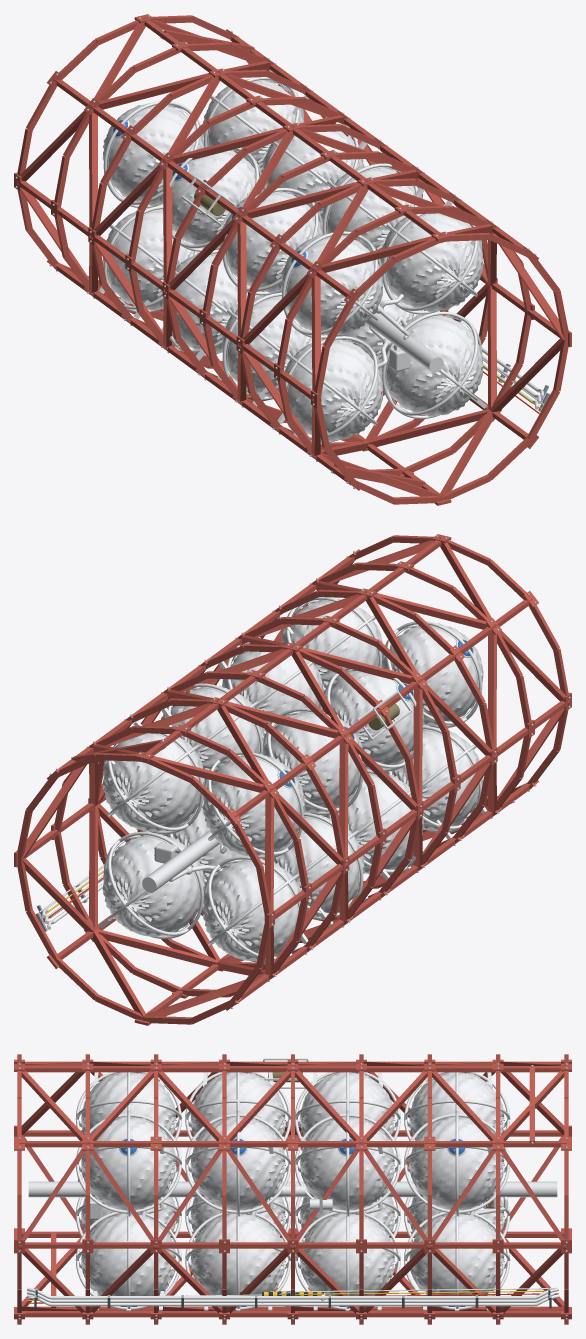
Rendered from tank-12-rcs.glb.
3 views of the same model, one above another, from view 1: azimuth 30°, elevation 25°; view 2: azimuth 150°, elevation 25°; view 3: azimuth 270°, elevation 25° (orthographic). The views are drawn at different scales.
Parts seen in each view (by area): view 1: rcs_red_box_truss, rcs_sphere_3_3, rcs_sphere_3_0, rcs_sphere_3_2, rcs_sphere_3_1, rcs_sphere_0_1, rcs_sphere_1_1, rcs_sphere_2_1, rcs_sphere_0_2, rcs_sphere_0_0, rcs_sphere_1_2, rcs_sphere_2_2 (+8 smaller); view 2: rcs_red_box_truss, rcs_sphere_0_3, rcs_sphere_0_2, rcs_sphere_0_0, rcs_sphere_0_1, rcs_sphere_3_1, rcs_sphere_2_1, rcs_sphere_1_1, rcs_sphere_3_2, rcs_sphere_3_0, rcs_sphere_2_2, rcs_sphere_1_2 (+7 smaller); view 3: rcs_red_box_truss, rcs_white_external_pipe_bundle, rcs_sphere_3_0, rcs_sphere_0_0, rcs_sphere_2_3, rcs_sphere_2_0, rcs_sphere_1_3, rcs_sphere_1_0, rcs_sphere_3_3, rcs_sphere_0_3, rcs_sphere_2_1, rcs_sphere_1_1 (+33 smaller).
Boxes of the visible parts, <box> form: rcs_red_box_truss: <box>14,14,571,505</box>; rcs_sphere_3_3: <box>381,314,483,416</box>; rcs_sphere_3_0: <box>381,213,483,312</box>; rcs_sphere_3_2: <box>285,339,382,441</box>; rcs_sphere_3_1: <box>281,233,382,335</box>; rcs_sphere_0_1: <box>102,103,204,205</box>; rcs_sphere_1_1: <box>162,148,263,249</box>; rcs_sphere_2_1: <box>221,191,323,292</box>; rcs_sphere_0_2: <box>103,208,203,310</box>; rcs_sphere_0_0: <box>203,79,304,173</box>; rcs_sphere_1_2: <box>162,253,263,353</box>; rcs_sphere_2_2: <box>221,295,323,397</box>; rcs_red_box_truss: <box>14,534,571,1025</box>; rcs_sphere_0_3: <box>102,834,204,936</box>; rcs_sphere_0_2: <box>202,858,301,961</box>; rcs_sphere_0_0: <box>102,733,204,831</box>; rcs_sphere_0_1: <box>202,753,305,855</box>; rcs_sphere_3_1: <box>381,623,483,725</box>; rcs_sphere_2_1: <box>322,666,423,769</box>; rcs_sphere_1_1: <box>262,711,364,812</box>; rcs_sphere_3_2: <box>385,728,483,830</box>; rcs_sphere_3_0: <box>281,598,382,693</box>; rcs_sphere_2_2: <box>322,773,423,873</box>; rcs_sphere_1_2: <box>263,815,364,917</box>; rcs_red_box_truss: <box>14,1054,571,1324</box>; rcs_white_external_pipe_bundle: <box>27,1287,558,1306</box>; rcs_sphere_3_0: <box>81,1116,176,1210</box>; rcs_sphere_0_0: <box>409,1116,504,1210</box>; rcs_sphere_2_3: <box>190,1213,285,1295</box>; rcs_sphere_2_0: <box>190,1116,285,1210</box>; rcs_sphere_1_3: <box>300,1213,395,1295</box>; rcs_sphere_1_0: <box>300,1116,395,1210</box>; rcs_sphere_3_3: <box>81,1213,176,1295</box>; rcs_sphere_0_3: <box>409,1213,504,1295</box>; rcs_sphere_2_1: <box>190,1072,285,1139</box>; rcs_sphere_1_1: <box>300,1072,395,1140</box>.
Bounding box in the file's own units: 6.01 × 6.03 × 12.24.
